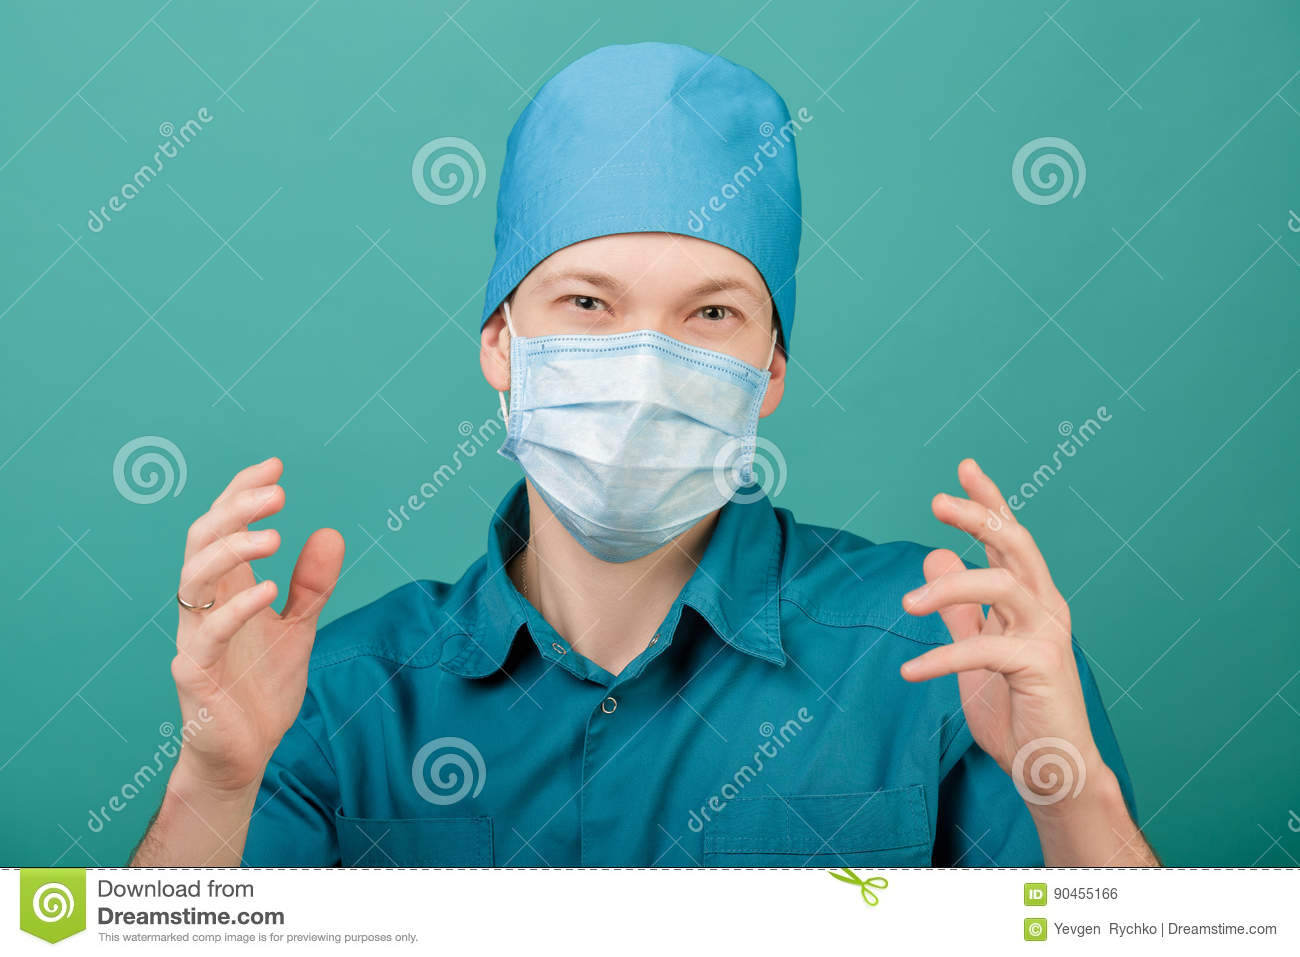mask: (485, 335, 758, 557)
